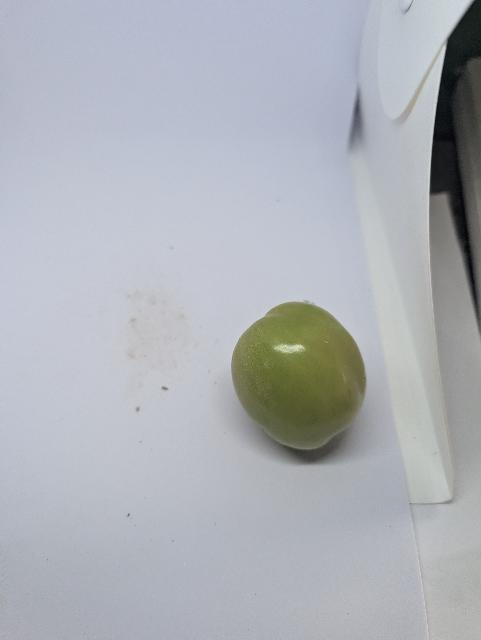green: (230, 300, 370, 454)
